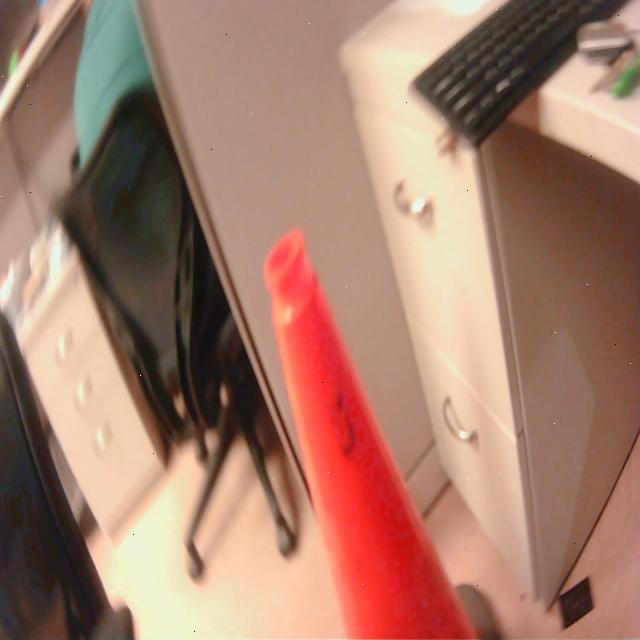traffic cone: (260, 219, 509, 640)
